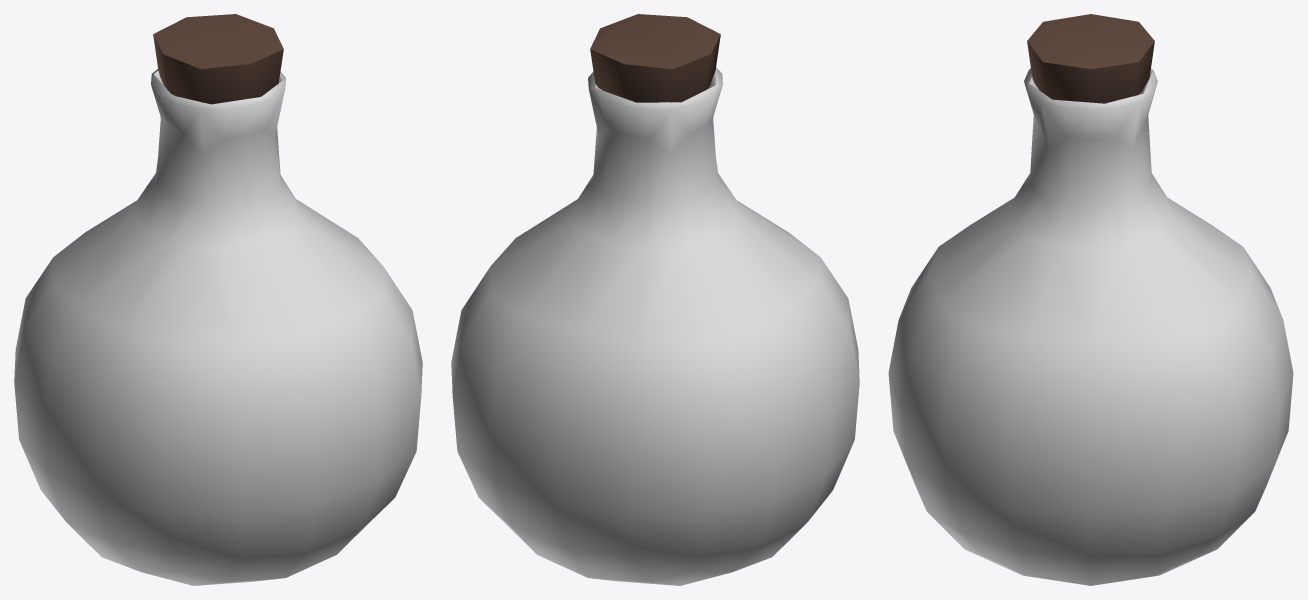
Rendered from potion-bottle.glb.
3 views of the same model, side by side, from view 1: azimuth 30°, elevation 25°; view 2: azimuth 150°, elevation 25°; view 3: azimuth 270°, elevation 25° (orthographic).
Parts seen in each view (by area): view 1: potion-bottle; view 2: potion-bottle; view 3: potion-bottle.
Boxes of the visible parts, x1,y1,x2,y2 form: potion-bottle: (14, 14, 422, 585); potion-bottle: (451, 14, 859, 585); potion-bottle: (888, 14, 1293, 585).
Size of the model in its own units: 0.1388 by 0.2 by 0.1388.
